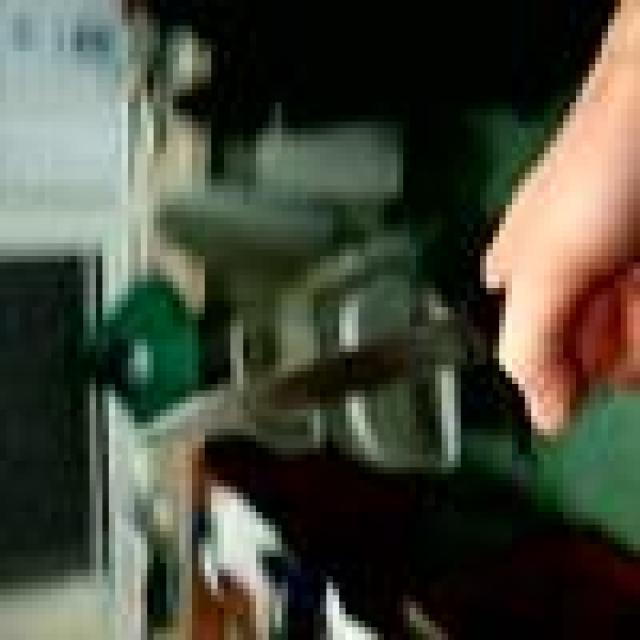knife: (145, 321, 499, 450)
